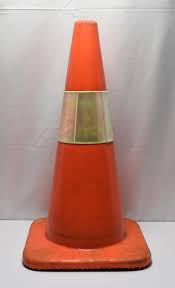cones: (26, 18, 154, 274)
